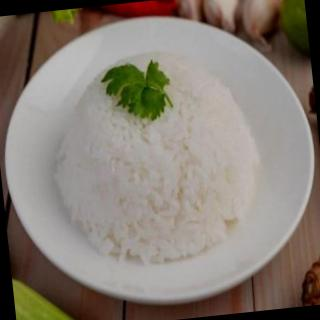Nasi: (39, 39, 271, 276)
